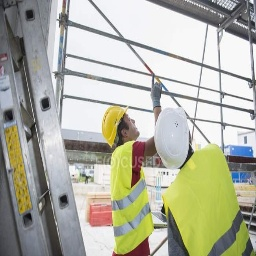helmet: (153, 111, 193, 169), (103, 102, 123, 146)
person: (154, 105, 256, 256), (103, 105, 156, 256)
vest: (172, 182, 250, 256), (110, 147, 154, 249)
